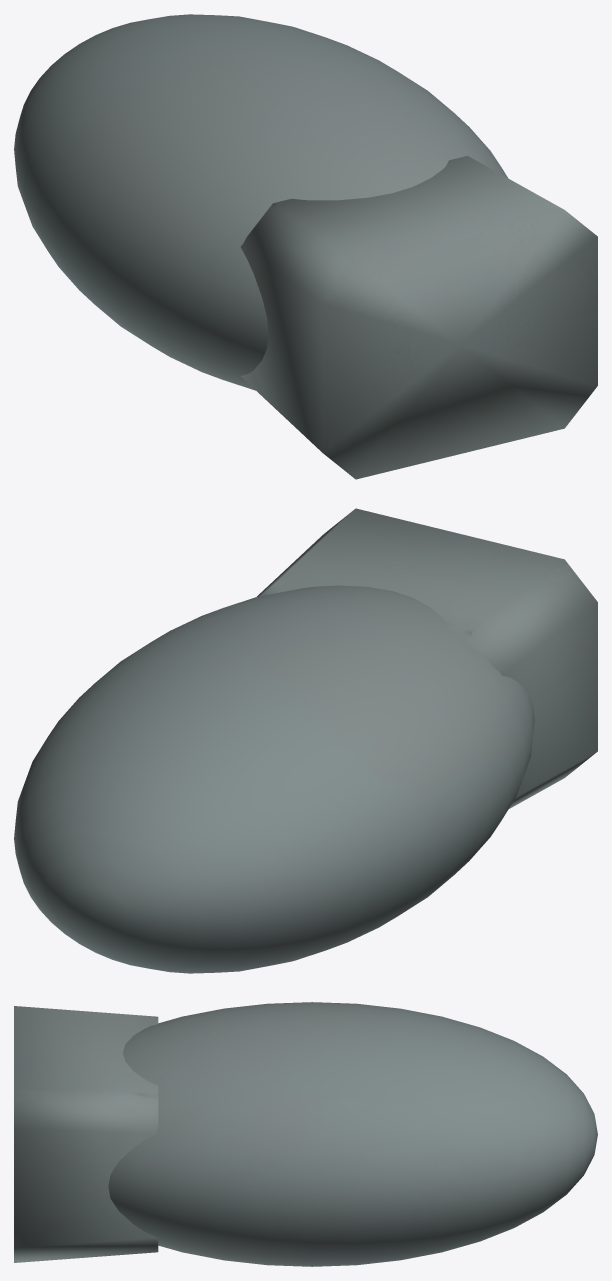
File: SM_S2_Ovale.glb
3 renders of one model, top to bottom at view 1: azimuth 30°, elevation 25°; view 2: azimuth 150°, elevation 25°; view 3: azimuth 270°, elevation 25°, orthographic. The views are drawn at different scales.
Bounding box in the file's own units: 1.2 × 0.8283 × 2.
Materials: 1 (1 with a texture image).
